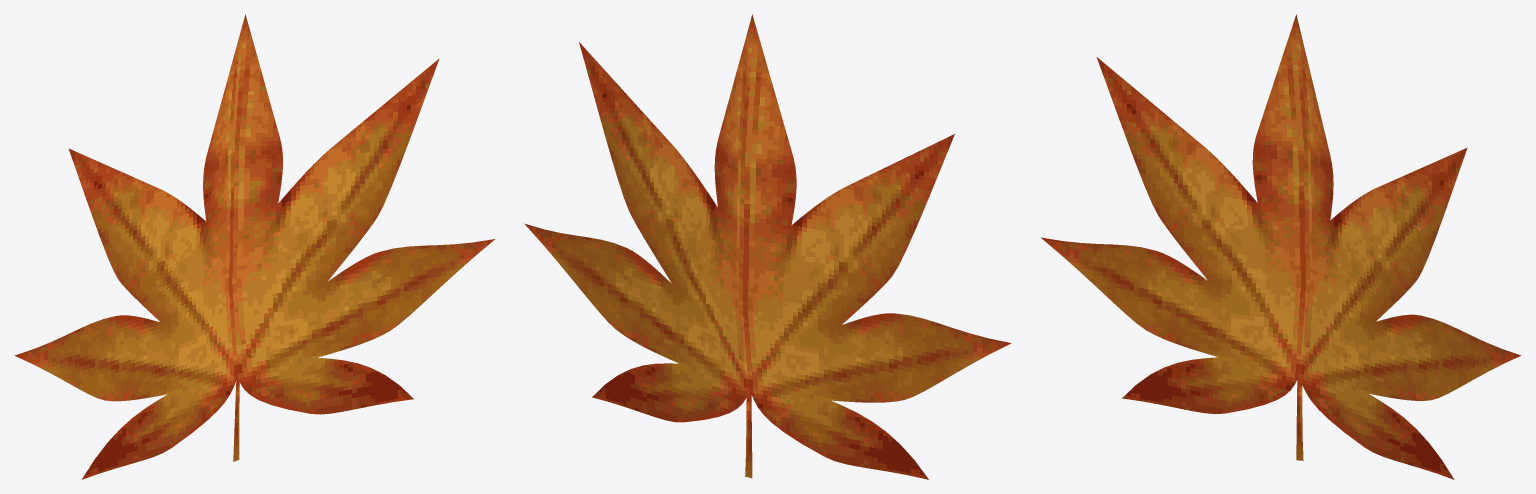
Rendered from ps2_save-icons_tsukinohikari.glb.
3 views of the same model, side by side, from view 1: azimuth 30°, elevation 25°; view 2: azimuth 150°, elevation 25°; view 3: azimuth 330°, elevation 25° (orthographic).
Parts seen in each view (by area): view 1: AKA_VIEW.ICO; view 2: AKA_VIEW.ICO; view 3: AKA_VIEW.ICO.
Part boxes in pixels (x1,y1,x2,y2): AKA_VIEW.ICO: [14, 14, 494, 479]; AKA_VIEW.ICO: [524, 14, 1011, 479]; AKA_VIEW.ICO: [1041, 14, 1520, 479].
Size of the model in its own units: 4.84 by 4.34 by 0.428.
1 material, 1 textured.
